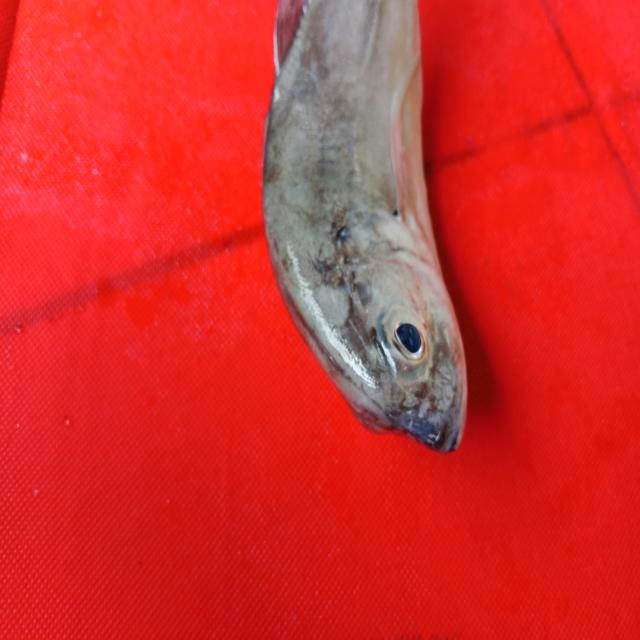ikan: (260, 0, 470, 455)
